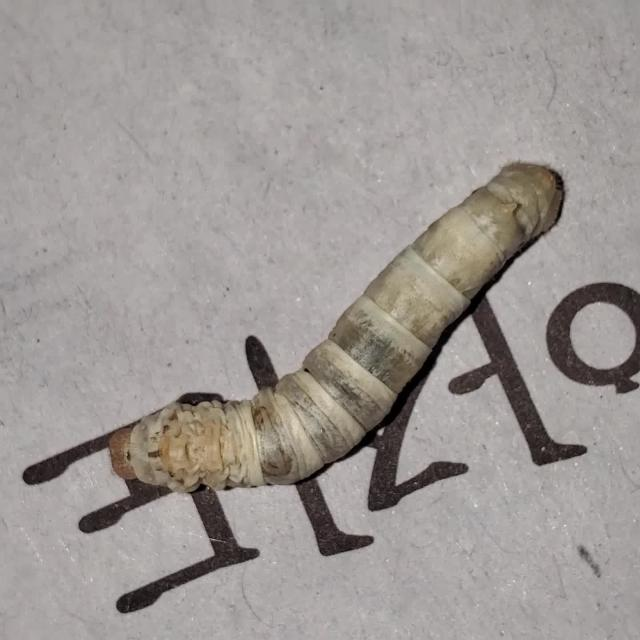Grasserie: (102, 156, 571, 500)
